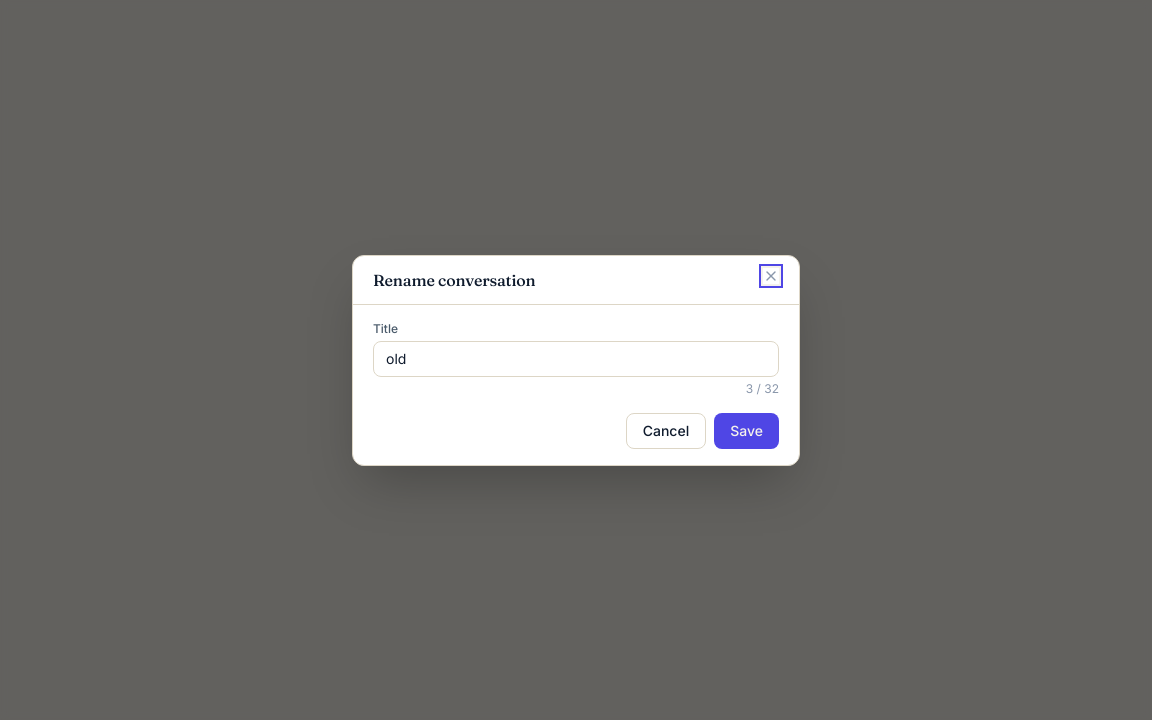
Test: EditTitleDialog › 400 VALIDATION_ERROR with field="title": surfaces under the input
Step 1. Replace the text in the field labelled "Title" with "new" → [576, 358], box [373,340,779,376]
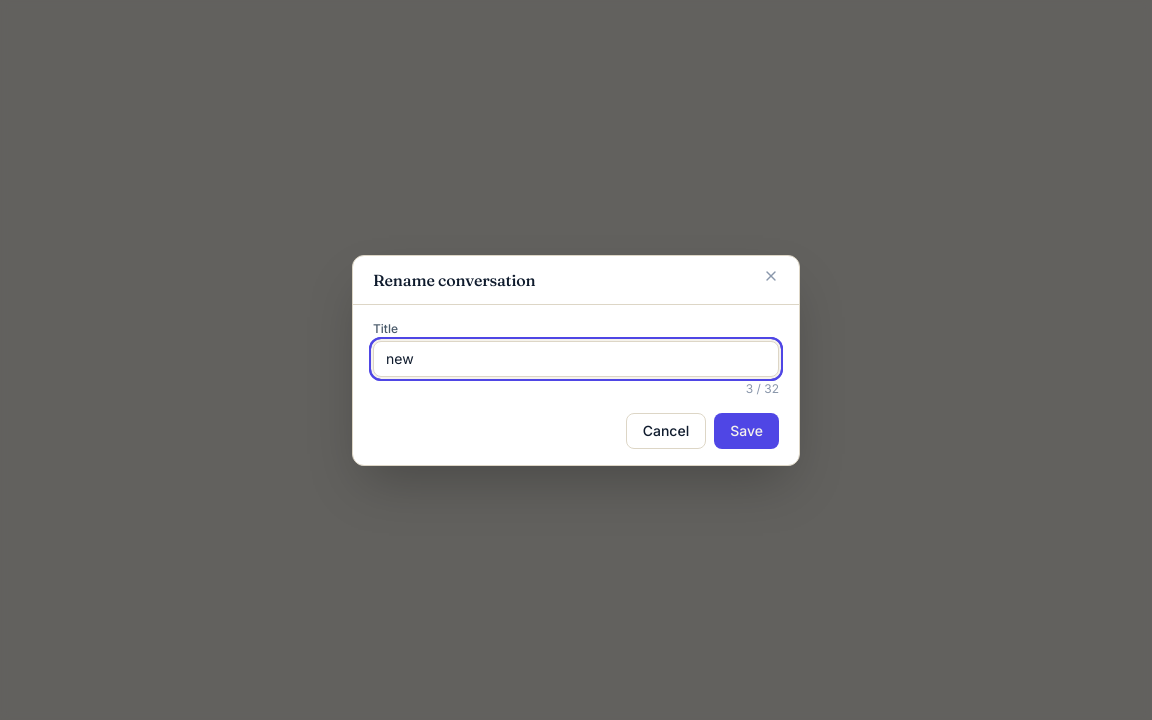
Step 2. Click the button "Save" → [747, 430], box [714,412,779,448]
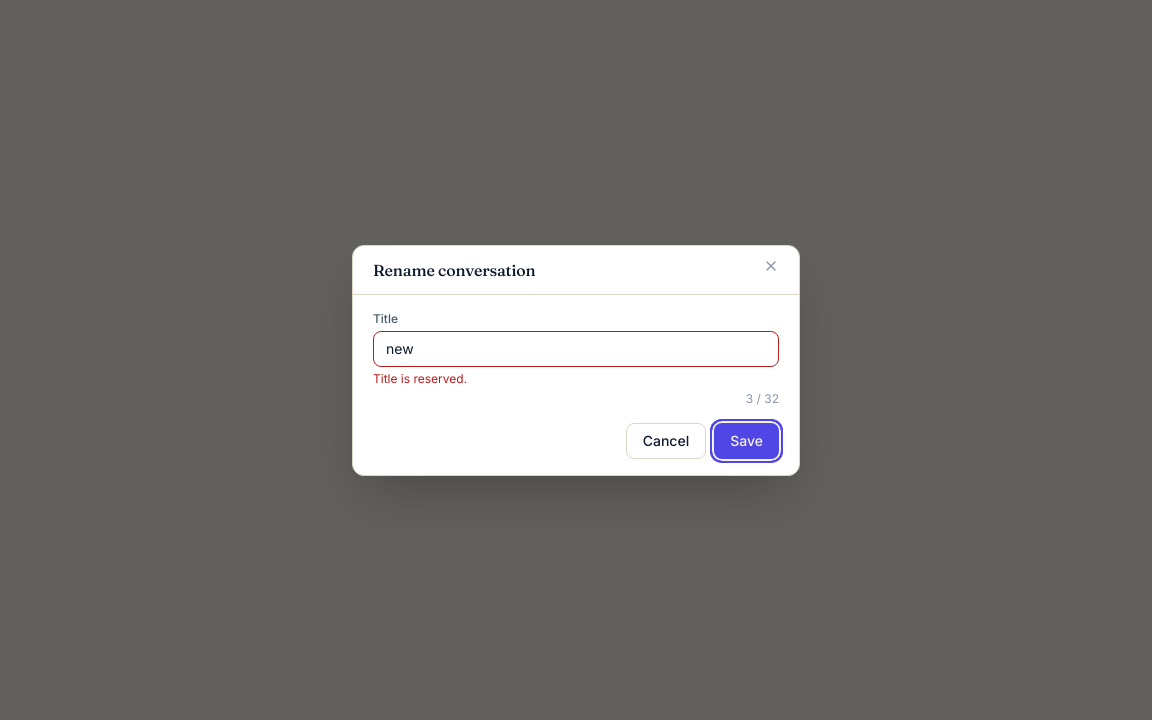
Result: the text "Title is reserved." is shown at [373,370,467,386]
